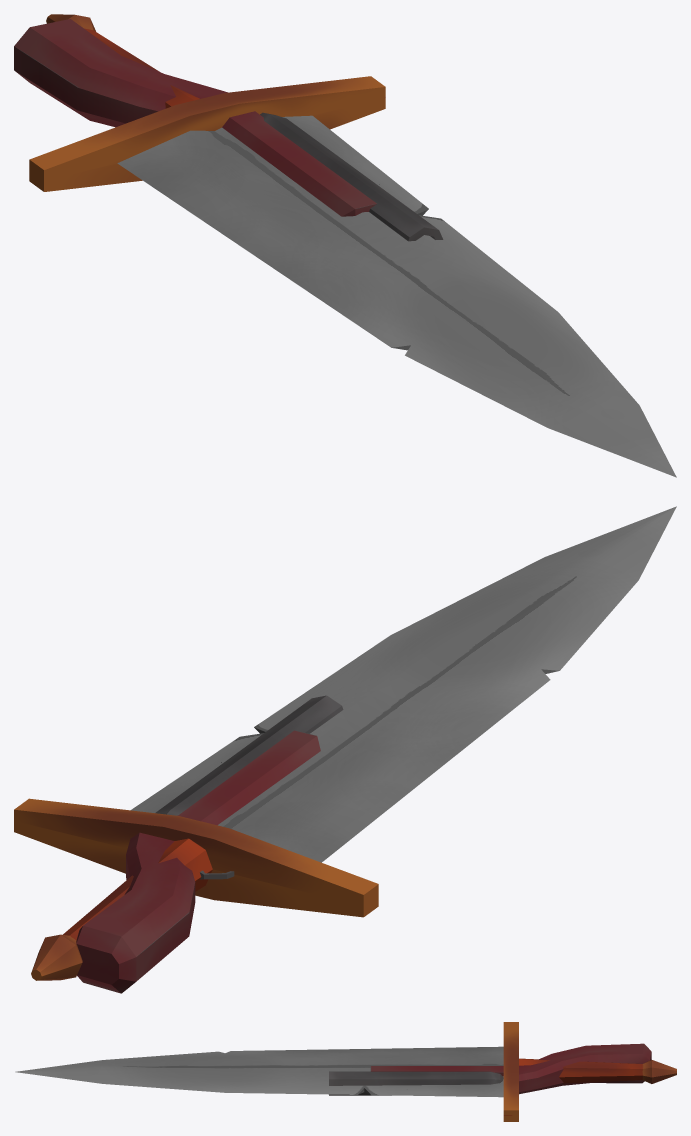
The model's file is EnemyWeapons.fbx.
3 views of the same model, one above another, from view 1: azimuth 30°, elevation 25°; view 2: azimuth 150°, elevation 25°; view 3: azimuth 270°, elevation 25° (orthographic). The views are drawn at different scales.
Parts seen in each view (by area): view 1: Sword, Gun; view 2: Sword, Gun; view 3: Sword, Gun.
Part boxes in pixels (x1,y1,x2,y2): Sword: (29,14,676,477); Gun: (14,19,443,241); Sword: (14,506,676,980); Gun: (76,695,343,993); Sword: (15,1022,676,1121); Gun: (329,1043,651,1095).
Bounding box in the file's own units: 38.61 × 6.43 × 122.
Materials: 2 (2 with a texture image).
